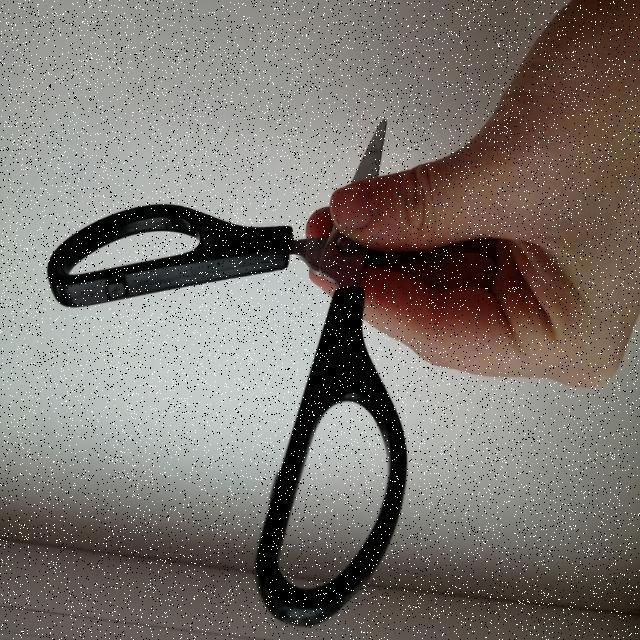scissors: (41, 99, 640, 638)
